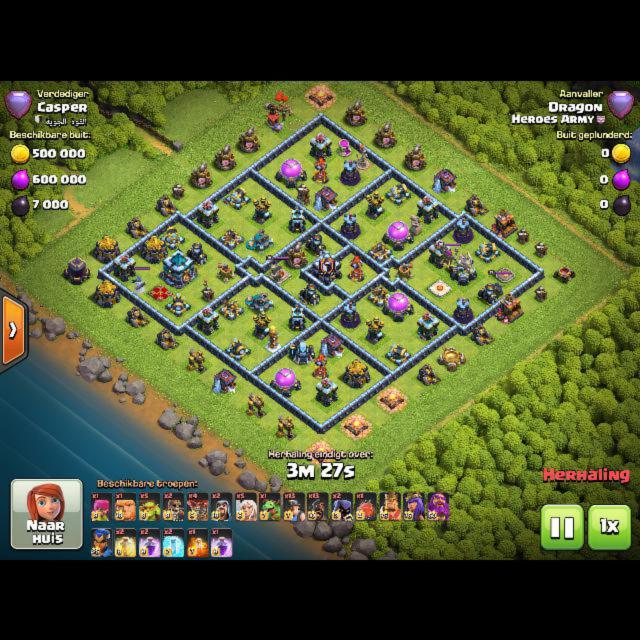AD: (252, 310, 272, 340), (364, 315, 384, 344), (365, 190, 385, 219), (252, 195, 272, 224)
AirSweeper: (395, 262, 414, 282), (217, 262, 236, 282)
BombTower: (289, 304, 305, 331), (289, 205, 305, 231)
Canon: (224, 338, 250, 361), (224, 186, 250, 209), (159, 226, 185, 249), (165, 293, 191, 316), (385, 342, 411, 364), (385, 182, 411, 204), (474, 240, 500, 262)
ClanCastle: (313, 252, 342, 285)
Eagle: (449, 251, 477, 286)
Inferno: (312, 156, 329, 182), (348, 255, 364, 282), (312, 353, 328, 379)
KingPad: (268, 266, 291, 283)
Mortar: (304, 233, 326, 256), (185, 242, 207, 265), (477, 282, 499, 305), (298, 283, 320, 305)
QueenPad: (148, 283, 172, 301)
RcPad: (496, 267, 515, 281)
Scattershot: (245, 291, 274, 315), (246, 228, 273, 253), (290, 339, 315, 365)
TH13: (162, 247, 195, 287)
WardenPad: (430, 279, 451, 295)
WizzTower: (341, 301, 360, 327), (341, 158, 360, 184), (341, 212, 360, 238), (454, 216, 473, 242), (454, 297, 473, 323)
Xbow: (367, 284, 392, 307), (367, 240, 393, 262), (218, 298, 244, 320), (218, 228, 244, 249)
